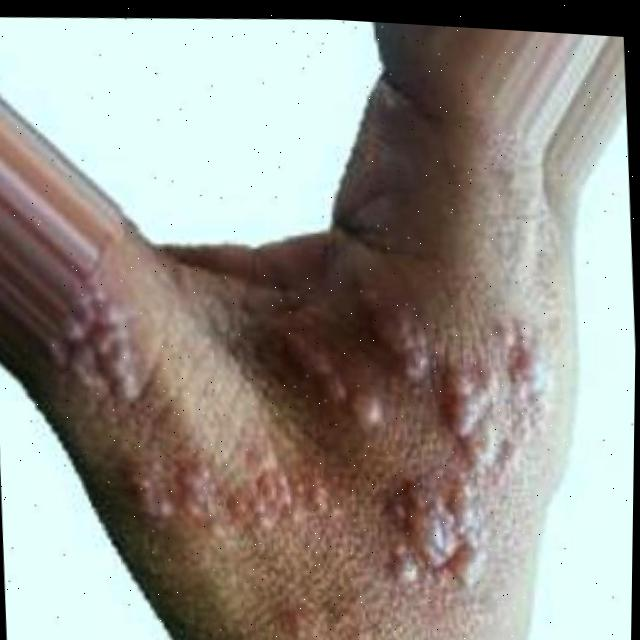Shingles: (56, 256, 592, 640)
